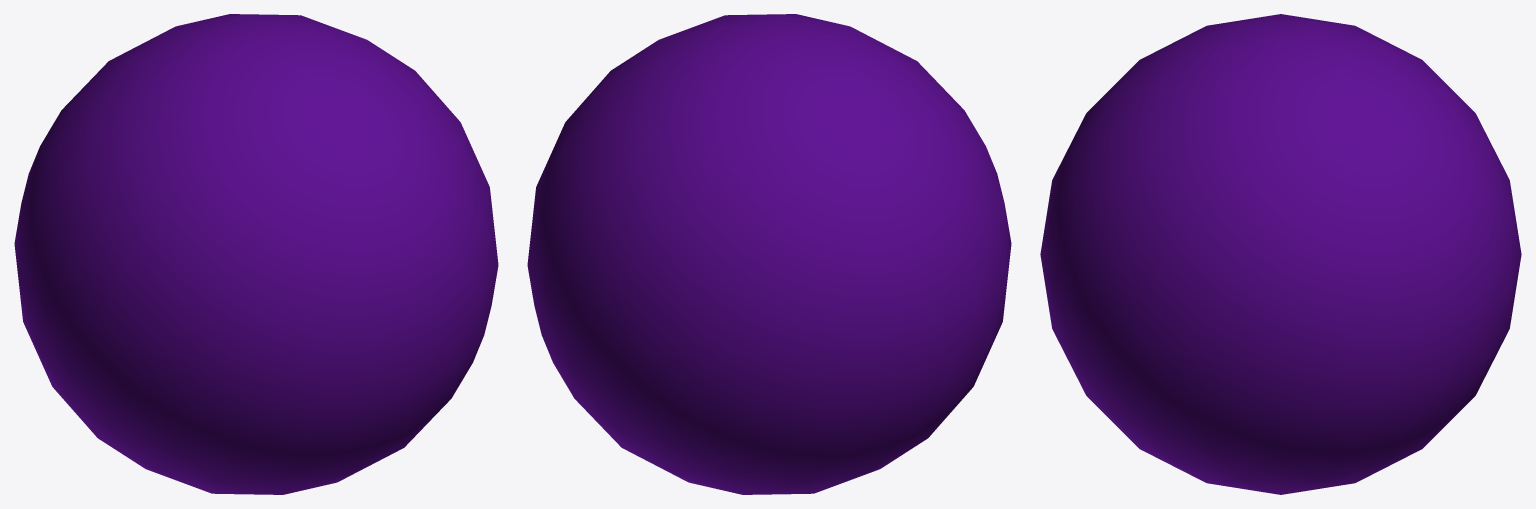
The model's file is AtomAnimated.glb.
The picture shows the model from 3 angles, left to right: view 1: azimuth 30°, elevation 25°; view 2: azimuth 150°, elevation 25°; view 3: azimuth 270°, elevation 25°; orthographic projection.
Visible parts, largest first — view 1: AtomRutherford; view 2: AtomRutherford; view 3: AtomRutherford.
Part boxes in pixels (x1,y1,x2,y2): AtomRutherford: (14, 14, 498, 494); AtomRutherford: (527, 14, 1011, 494); AtomRutherford: (1040, 14, 1521, 494).
Bounding box in the file's own units: 2 × 2 × 2.
